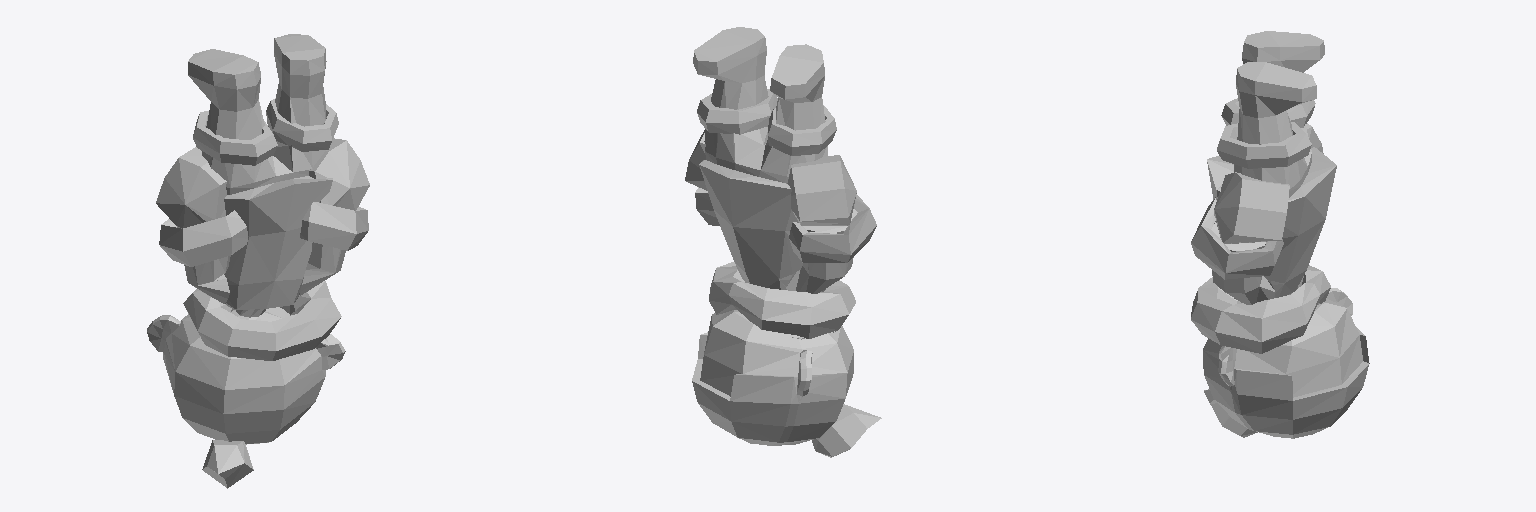
File: eikastanding_000126.obj
3 views of the same model, side by side, from view 1: azimuth 30°, elevation 25°; view 2: azimuth 150°, elevation 25°; view 3: azimuth 270°, elevation 25° (orthographic).
Visible parts, largest first — view 1: Cylinder; view 2: Cylinder; view 3: Cylinder.
Part boxes in pixels (x1,y1,x2,y2): Cylinder: (147,34,369,488); Cylinder: (685,27,881,457); Cylinder: (1191,31,1369,438).
Size of the model in its own units: 25.7 by 55.01 by 21.88.